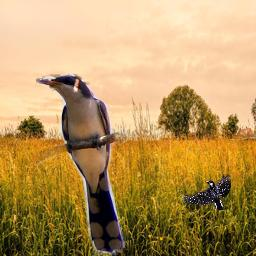Cuckoo: (36, 74, 127, 256)
Woodpecker: (182, 174, 231, 210)
